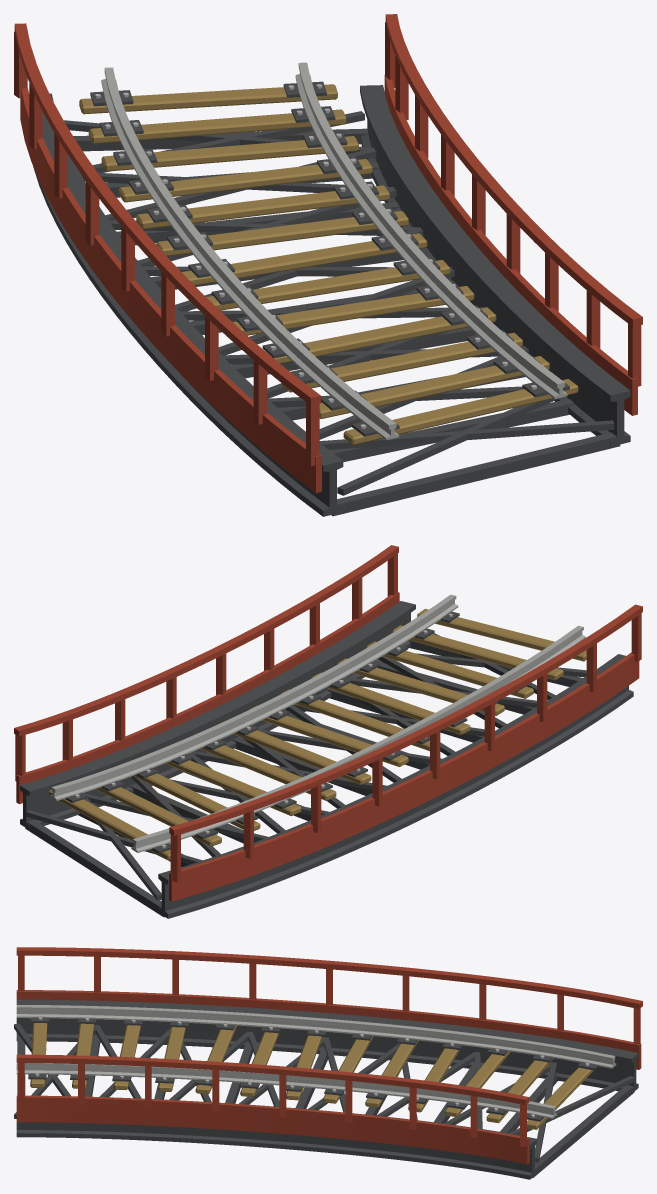
File: elevated-curved-rail-a-ne.glb
The picture shows the model from 3 angles, top to bottom: view 1: azimuth 30°, elevation 25°; view 2: azimuth 150°, elevation 25°; view 3: azimuth 270°, elevation 25°; orthographic projection. The views are drawn at different scales.
Visible parts, largest first — view 1: body; view 2: body; view 3: body.
Part boxes in pixels (x1,y1,x2,y2): body: [14, 14, 642, 516]; body: [14, 545, 642, 918]; body: [14, 947, 642, 1179].
Bounding box in the file's own units: 3.19 × 0.825 × 5.54.
